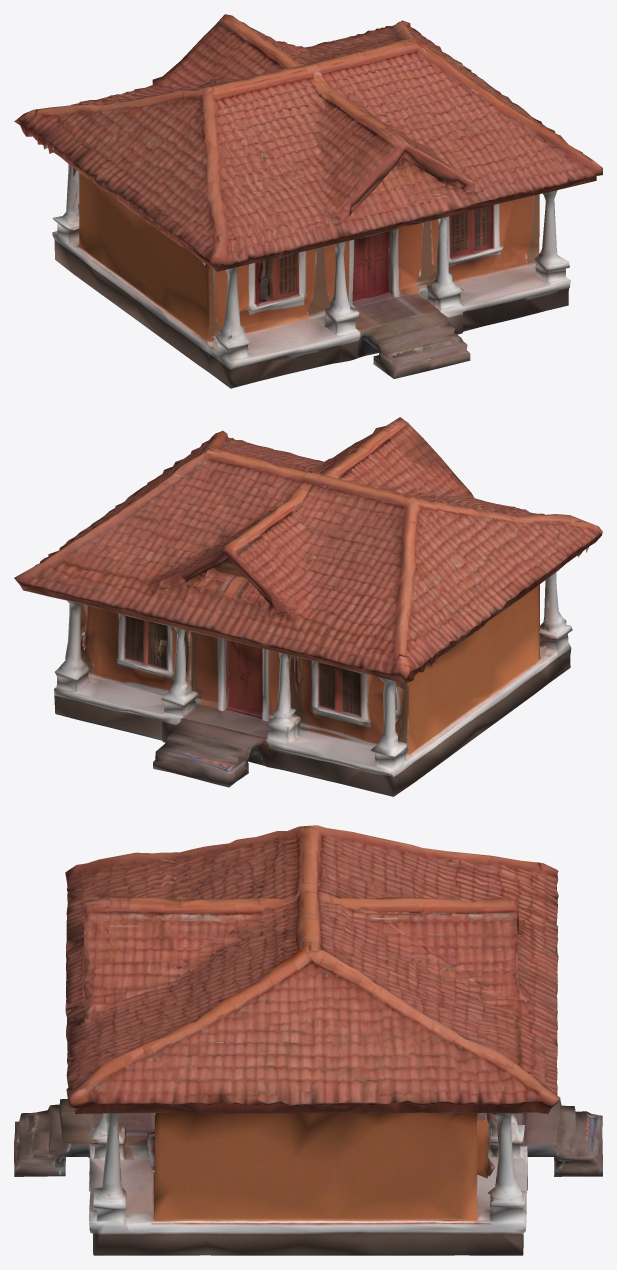
The model's file is house7.glb.
The picture shows the model from 3 angles, top to bottom: view 1: azimuth 30°, elevation 25°; view 2: azimuth 150°, elevation 25°; view 3: azimuth 270°, elevation 25°; orthographic projection. The views are drawn at different scales.
Parts seen in each view (by area): view 1: Object_4; view 2: Object_4; view 3: Object_4.
Part boxes in pixels (<box>): Object_4: <box>14,14,602,388</box>; Object_4: <box>14,417,602,796</box>; Object_4: <box>14,825,602,1255</box>.
Bounding box in the file's own units: 1.9 × 1.01 × 1.99.
1 material, 1 textured.
